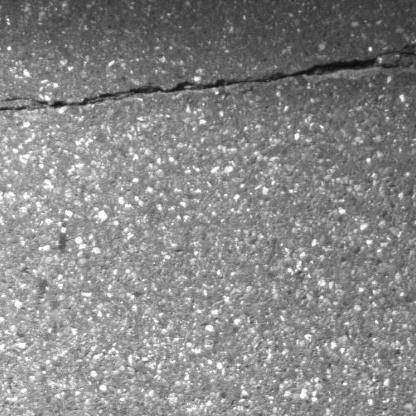Cracks: (0, 41, 416, 119)
